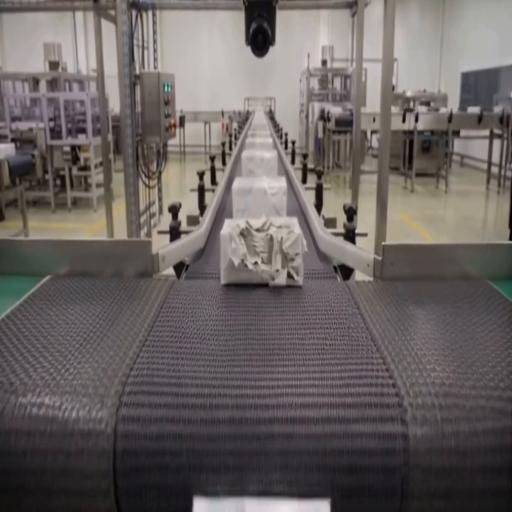defective: (219, 216, 307, 286)
good: (232, 175, 289, 220), (241, 146, 279, 179), (245, 131, 274, 151), (0, 142, 16, 160)
